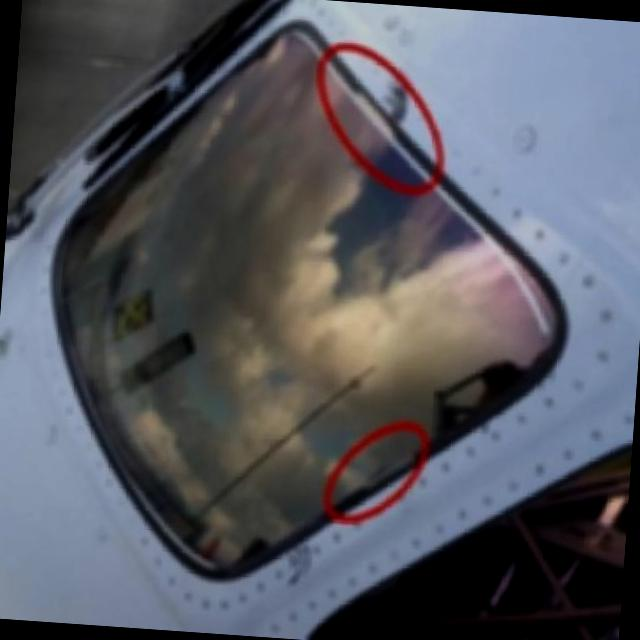crack: (286, 540, 312, 584)
